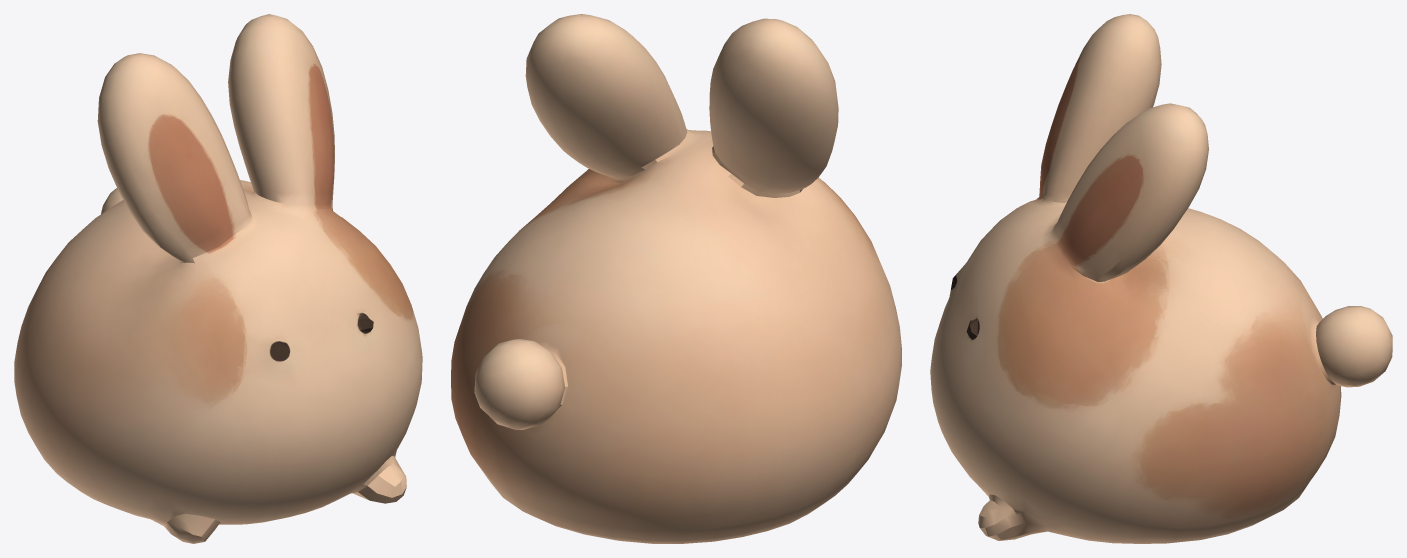
The model's file is Animal_Rabbit_01.glb.
3 views of the same model, side by side, from view 1: azimuth 30°, elevation 25°; view 2: azimuth 150°, elevation 25°; view 3: azimuth 270°, elevation 25° (orthographic). The views are drawn at different scales.
Parts seen in each view (by area): view 1: Animal_Rabbit_01.001; view 2: Animal_Rabbit_01.001; view 3: Animal_Rabbit_01.001.
Part boxes in pixels (left/top/right/bottom): Animal_Rabbit_01.001: left=14, top=14, right=422, bottom=543; Animal_Rabbit_01.001: left=451, top=14, right=901, bottom=543; Animal_Rabbit_01.001: left=930, top=14, right=1392, bottom=543.
Bounding box in the file's own units: 0.8288 × 1 × 0.9602.
1 material, 1 textured.
